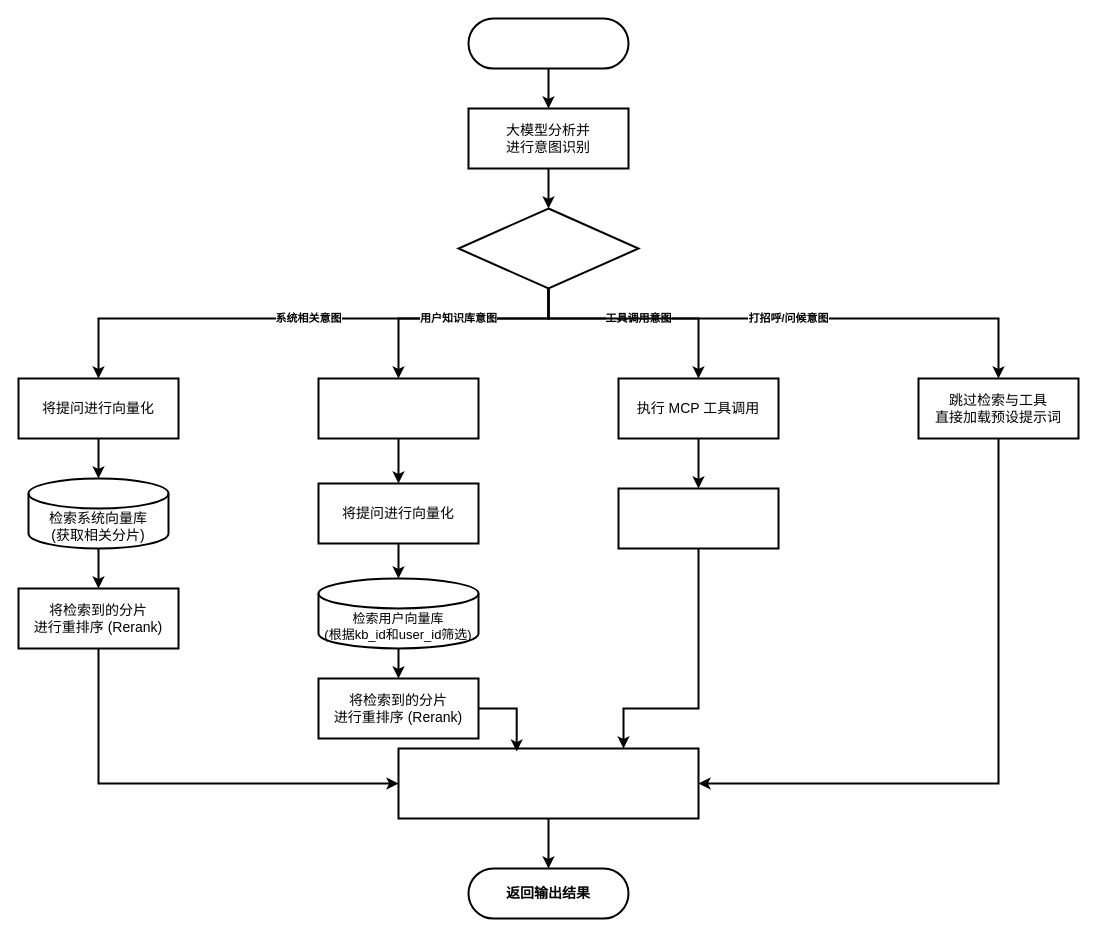
The diagram is 1096 pixels wide and 936 high, and some of its shapes have lost their labels. The centre of each missing label's shape, as x and y in pixels:
判断所属的 意图类型？: the point at 548,248
大模型结合上下文/检索分片/工具结果 生成最终回答: the point at 548,783
根据描述判断并 匹配目标知识库: the point at 398,408
用户发起提问: the point at 548,43
获取并封装 工具返回的结果: the point at 698,518
